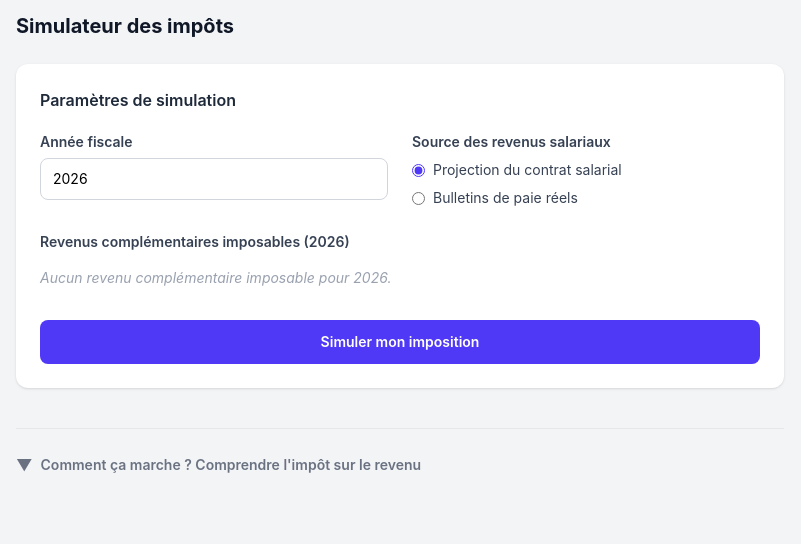
Scenario: TaxSimulatorPage › affiche un message d'erreur si la simulation échoue
Click the button "Simuler mon imposition". click: (400, 342)
box: [40,320,760,364]
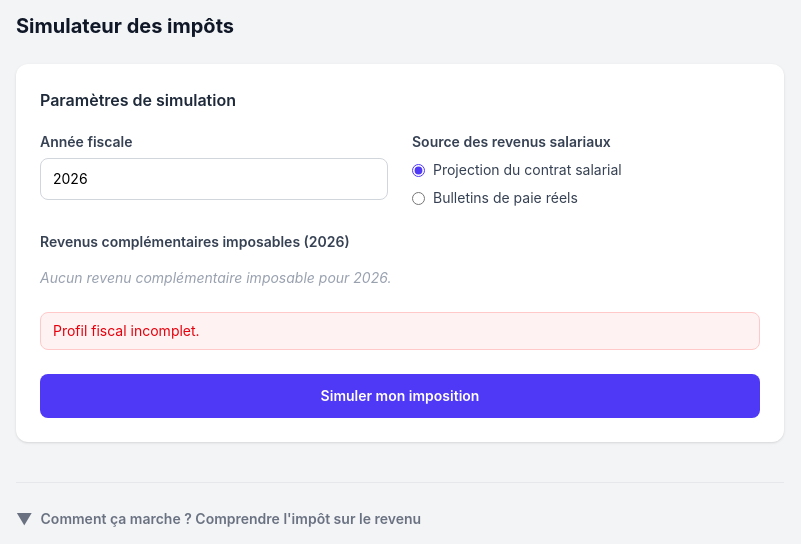
Check: the text "Profil fiscal incomplet." is shown, box [40,312,760,350]
